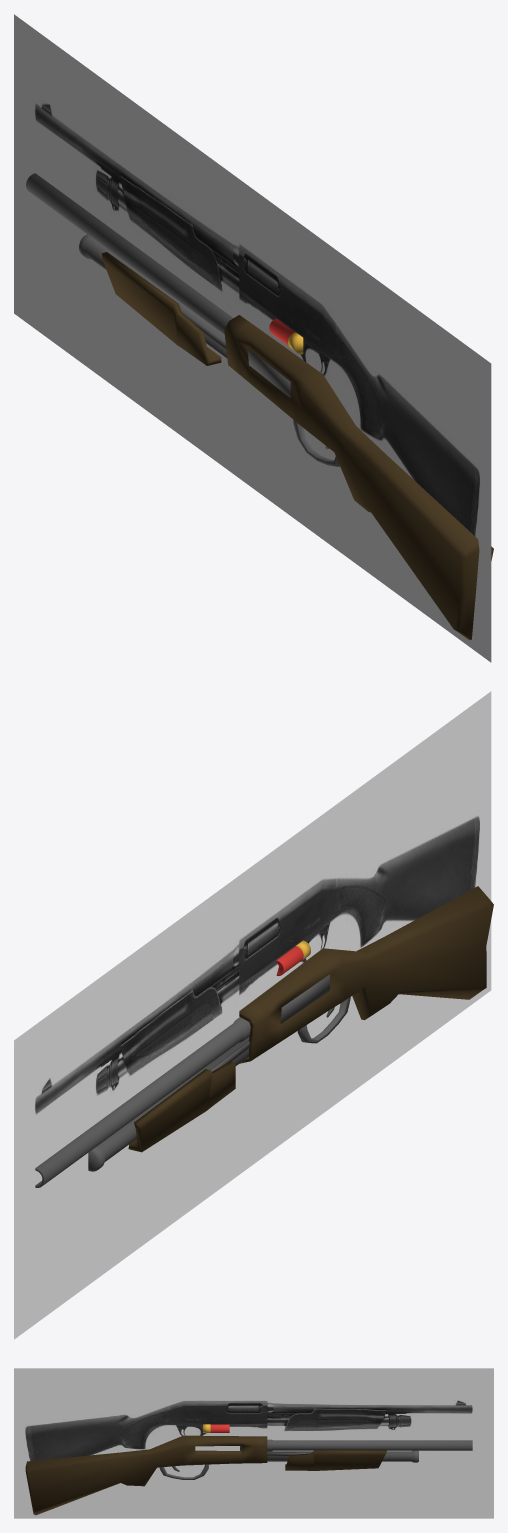
File: Shotgun.glb
The picture shows the model from 3 angles, top to bottom: view 1: azimuth 30°, elevation 25°; view 2: azimuth 150°, elevation 25°; view 3: azimuth 270°, elevation 25°; orthographic projection. The views are drawn at different scales.
Parts seen in each view (by area): view 1: P3000 Tactical SYN Silo 31892, Cube, Cylinder, Cube.001, Cylinder.001, Cube.003; view 2: P3000 Tactical SYN Silo 31892, Cube, Cylinder, Cube.001, Cylinder.001, Cube.003; view 3: P3000 Tactical SYN Silo 31892, Cube, Cylinder, Cube.001, Cylinder.001, Cube.004, Cylinder.002.
Part boxes in pixels (left/top/right/bottom): P3000 Tactical SYN Silo 31892: left=14, top=14, right=491, bottom=662; Cube: left=224, top=315, right=493, bottom=639; Cylinder: left=26, top=173, right=233, bottom=334; Cube.001: left=102, top=252, right=221, bottom=365; Cylinder.001: left=79, top=234, right=227, bottom=357; Cube.003: left=247, top=348, right=290, bottom=398; P3000 Tactical SYN Silo 31892: left=14, top=691, right=491, bottom=1339; Cube: left=239, top=886, right=493, bottom=1063; Cylinder: left=35, top=1017, right=250, bottom=1187; Cube.001: left=128, top=1061, right=235, bottom=1152; Cylinder.001: left=88, top=1036, right=249, bottom=1171; Cube.003: left=280, top=974, right=329, bottom=1023; P3000 Tactical SYN Silo 31892: left=14, top=1368, right=493, bottom=1518; Cube: left=25, top=1435, right=267, bottom=1515; Cylinder: left=240, top=1439, right=472, bottom=1451; Cube.001: left=285, top=1450, right=386, bottom=1470; Cylinder.001: left=267, top=1450, right=418, bottom=1462; Cube.004: left=159, top=1464, right=208, bottom=1479; Cylinder.002: left=203, top=1424, right=229, bottom=1432.
Size of the model in its own units: 0.1488 by 1 by 2.89.
5 materials, 1 textured.
